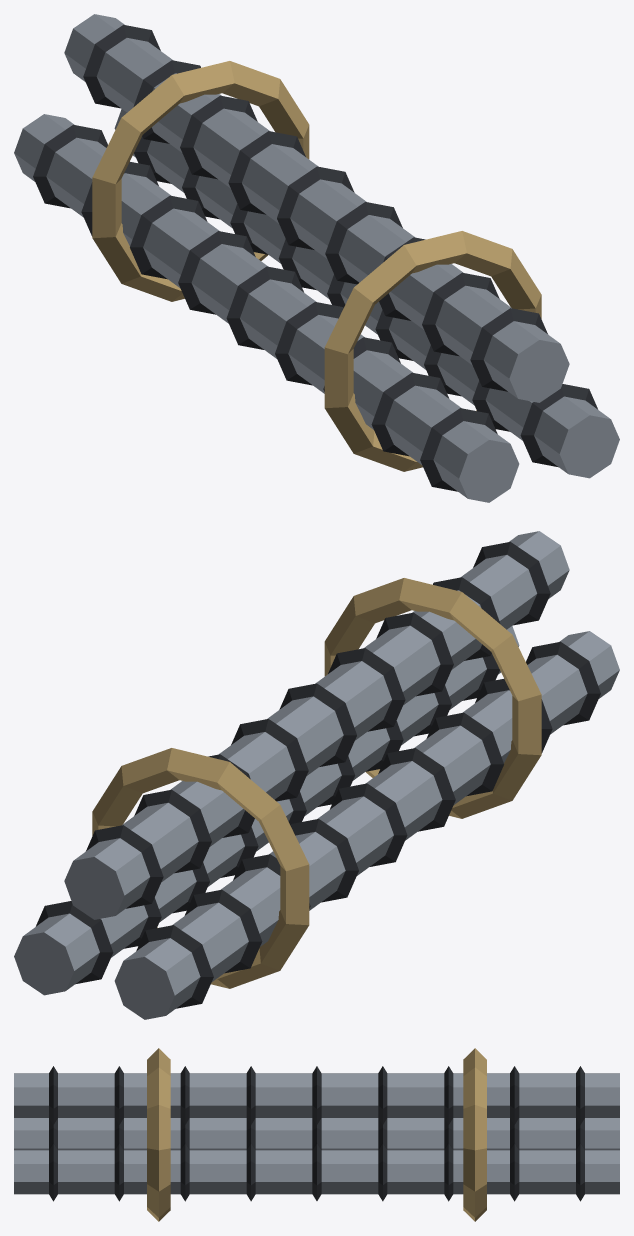
Rendered from GearRebar.obj.
The picture shows the model from 3 angles, top to bottom: view 1: azimuth 30°, elevation 25°; view 2: azimuth 150°, elevation 25°; view 3: azimuth 270°, elevation 25°; orthographic projection. The views are drawn at different scales.
Visible parts, largest first — view 1: GearRebar; view 2: GearRebar; view 3: GearRebar.
Boxes of the visible parts, <box> form: GearRebar: <box>14,14,619,502</box>; GearRebar: <box>14,531,619,1019</box>; GearRebar: <box>14,1048,619,1221</box>.
Size of the model in its own units: 0.1294 by 0.1294 by 0.46.
